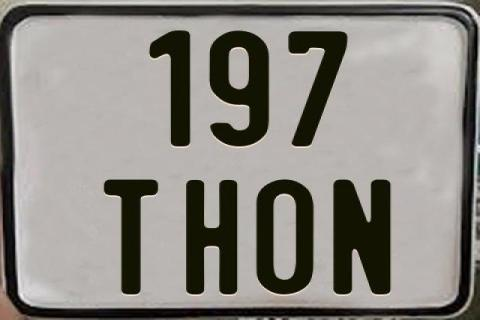0: (286, 29, 351, 150), (253, 177, 317, 293), (206, 30, 267, 146), (149, 31, 196, 151)
H: (183, 179, 238, 293)
N: (332, 180, 394, 300)
T: (101, 180, 159, 296)
